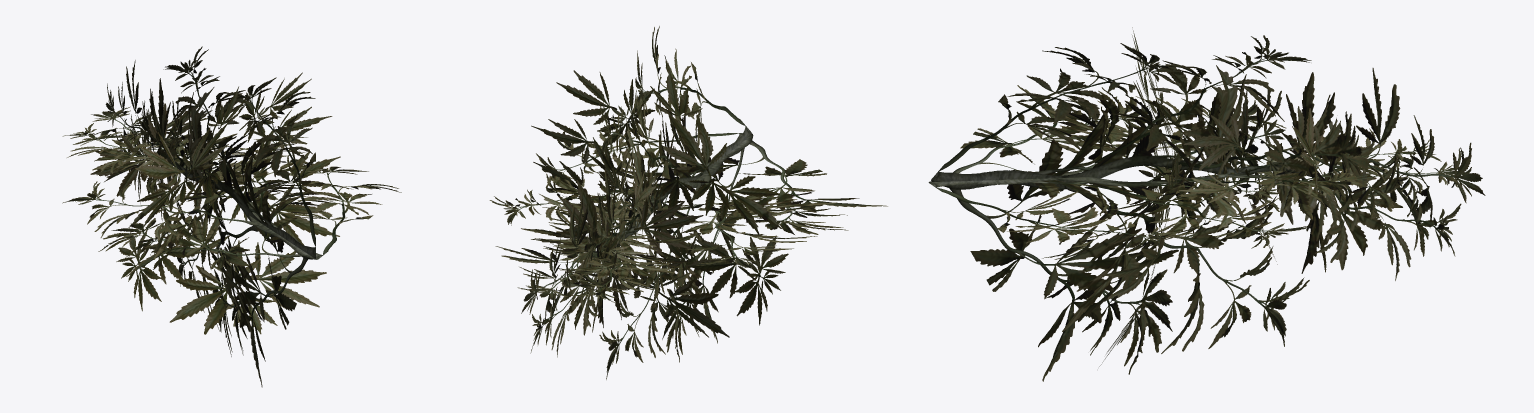
File: TI_Bush_01_Branch_02.fbx
3 views of the same model, side by side, from view 1: azimuth 30°, elevation 25°; view 2: azimuth 150°, elevation 25°; view 3: azimuth 270°, elevation 25° (orthographic). The views are drawn at different scales.
Visible parts, largest first — view 1: TI_Bush_01_Branch_02; view 2: TI_Bush_01_Branch_02; view 3: TI_Bush_01_Branch_02.
Boxes of the visible parts, x1,y1,x2,y2 form: TI_Bush_01_Branch_02: [62, 46, 401, 387]; TI_Bush_01_Branch_02: [489, 26, 887, 379]; TI_Bush_01_Branch_02: [928, 27, 1485, 381].
Size of the model in its own units: 1.28 by 1.18 by 1.59.
